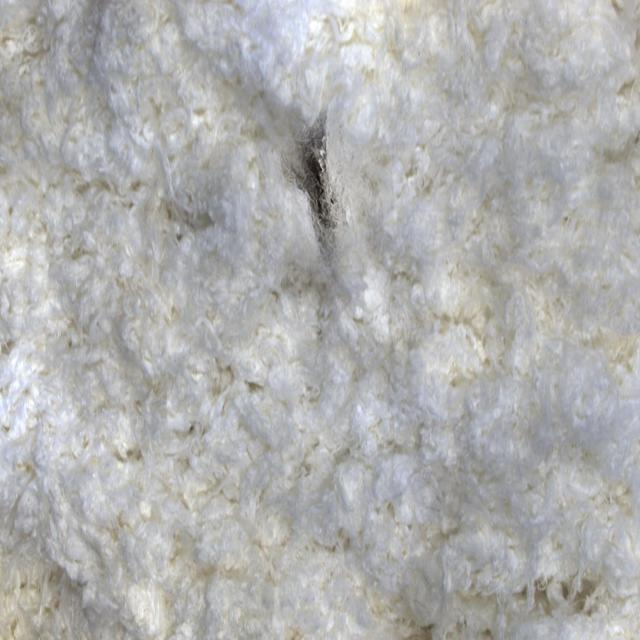dust: (238, 83, 392, 290)
